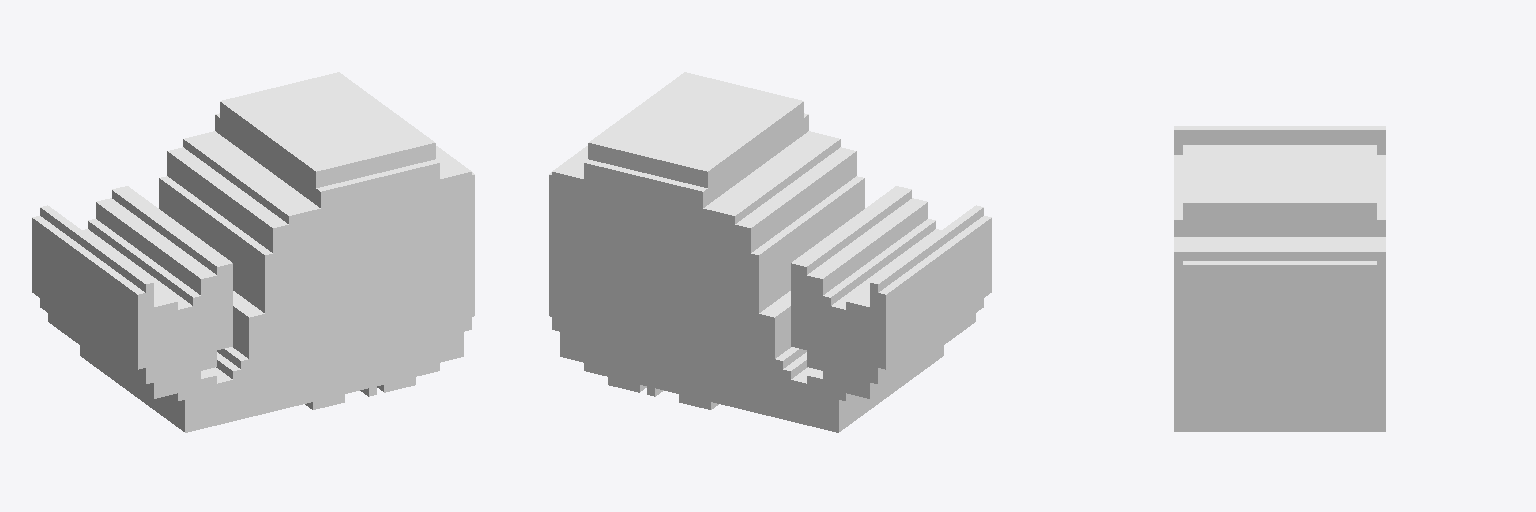
File: whale-0-whale_32x32.obj
3 views of the same model, side by side, from view 1: azimuth 30°, elevation 25°; view 2: azimuth 150°, elevation 25°; view 3: azimuth 270°, elevation 25° (orthographic).
Visible parts, largest first — view 1: whale_32x32; view 2: whale_32x32; view 3: whale_32x32.
Part boxes in pixels (x1,y1,x2,y2): whale_32x32: (32, 72, 474, 432); whale_32x32: (549, 72, 991, 432); whale_32x32: (1174, 126, 1385, 431).
Size of the model in its own units: 4.3 by 2.8 by 2.3.